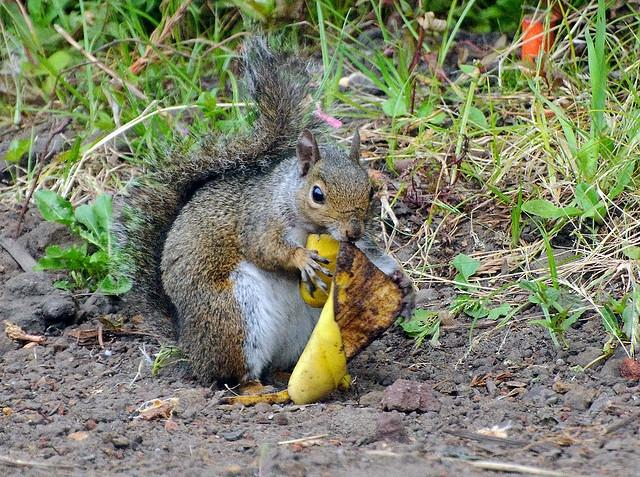banana: (218, 233, 408, 407)
